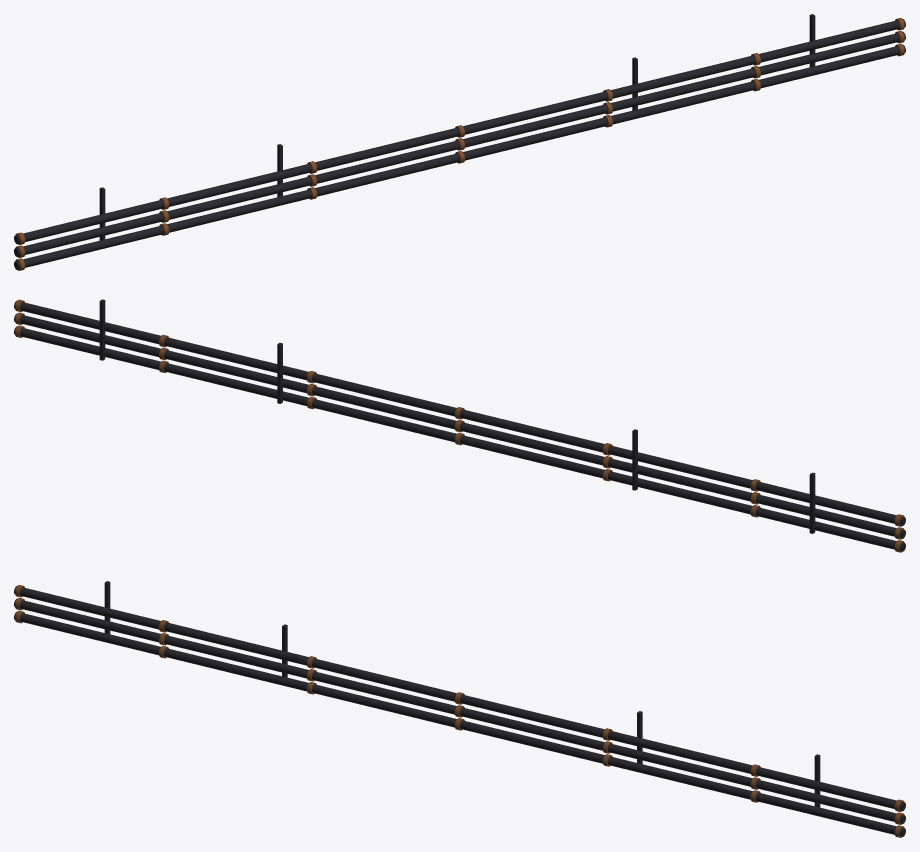
File: mia-pipes.glb
3 views of the same model, one above another, from view 1: azimuth 30°, elevation 25°; view 2: azimuth 150°, elevation 25°; view 3: azimuth 330°, elevation 25° (orthographic).
Visible parts, largest first — view 1: Body_iron, Body_rust; view 2: Body_iron, Body_rust; view 3: Body_iron, Body_rust.
Part boxes in pixels (x1,y1,x2,y2): Body_iron: (14, 14, 905, 269); Body_rust: (15, 18, 904, 270); Body_iron: (14, 299, 905, 551); Body_rust: (15, 299, 904, 552); Body_iron: (14, 581, 905, 836); Body_rust: (15, 585, 904, 837).
Bounding box in the file's own units: 18 × 1.14 × 0.2335.
